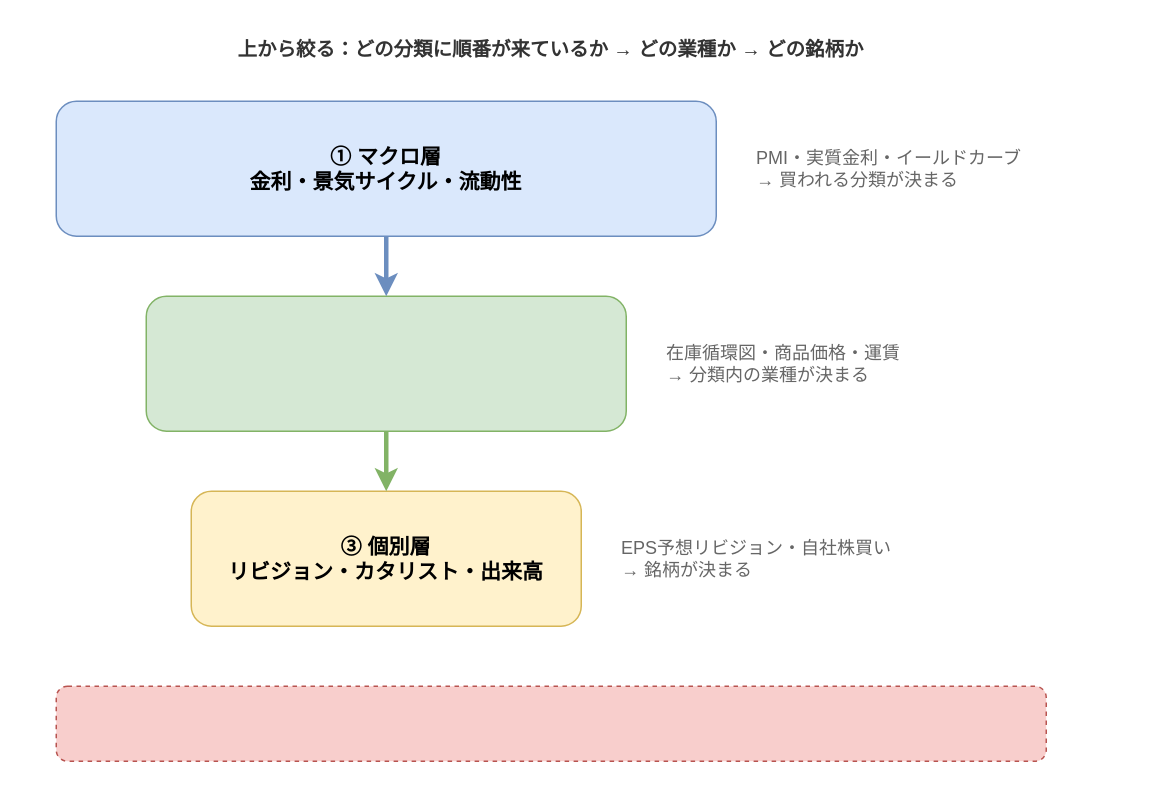
Some shapes in this 1154 by 788 pixel diagram are drawn without their labels. The box of each missing label's shape, as (x1, y1, x2, y2) in pixels:
①②は「分類全体が上がる兆候」＝打率の話 ／ ③は「この銘柄が上がる兆候」＝期待値の話: (55, 685, 1046, 761)
② 業界層 価格・在庫・需給: (145, 295, 626, 431)
